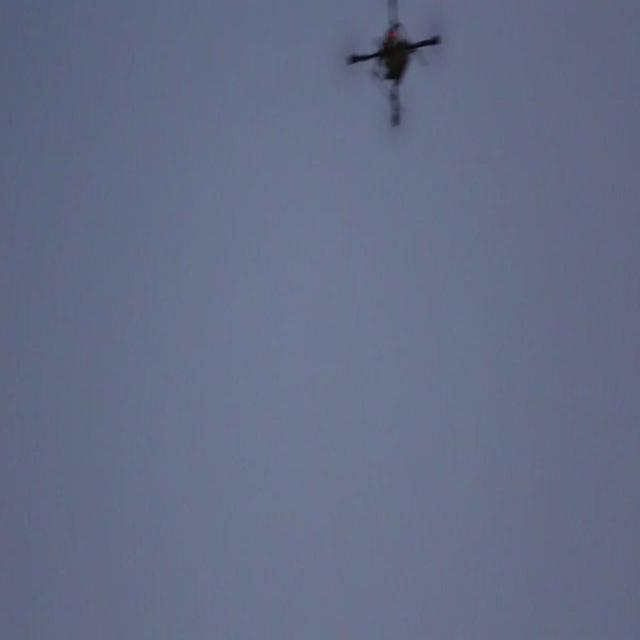UAV: (345, 0, 443, 129)
